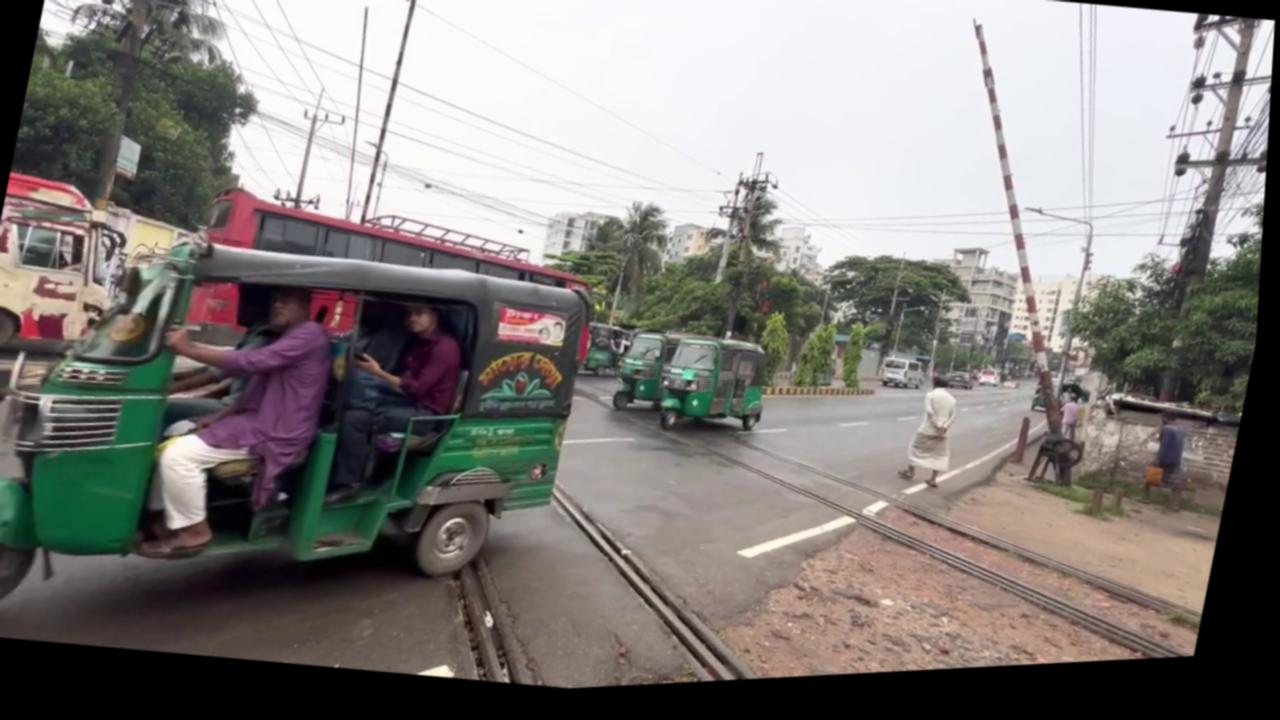Fence: (126, 269, 351, 579), (324, 296, 477, 523), (900, 379, 971, 501), (1152, 420, 1197, 499)
Garbage: (896, 20, 1146, 459), (359, 0, 427, 230)
Motorcycle: (561, 432, 1234, 696)
Railroad-crossing: (795, 325, 846, 399), (754, 316, 799, 398), (840, 329, 876, 399)
Rickshaw: (0, 165, 616, 706), (613, 330, 684, 423), (582, 326, 636, 386)
